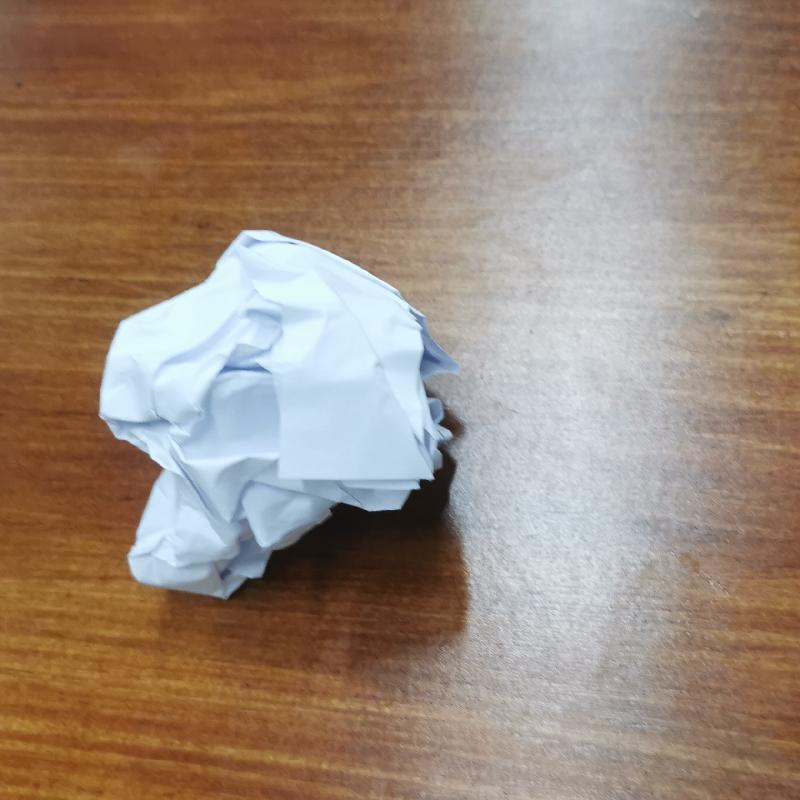spitball: (90, 226, 464, 610)
